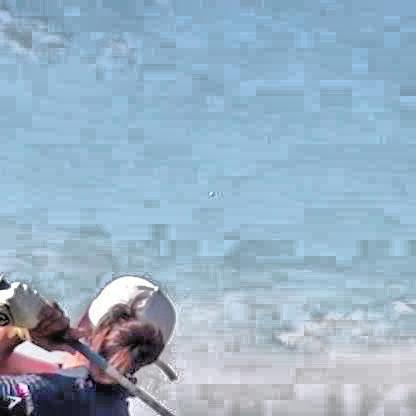golfball: (206, 188, 211, 195)
